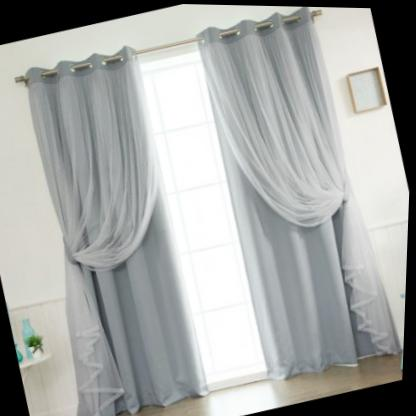Curtains: (198, 5, 400, 355), (16, 46, 161, 416)
